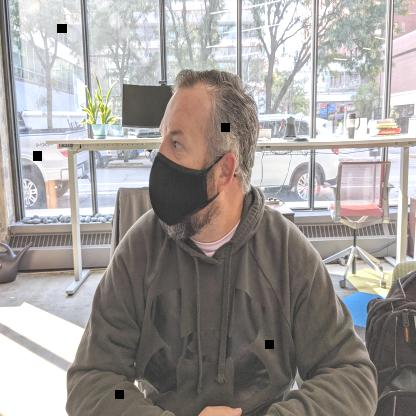mask: (148, 97, 240, 229)
